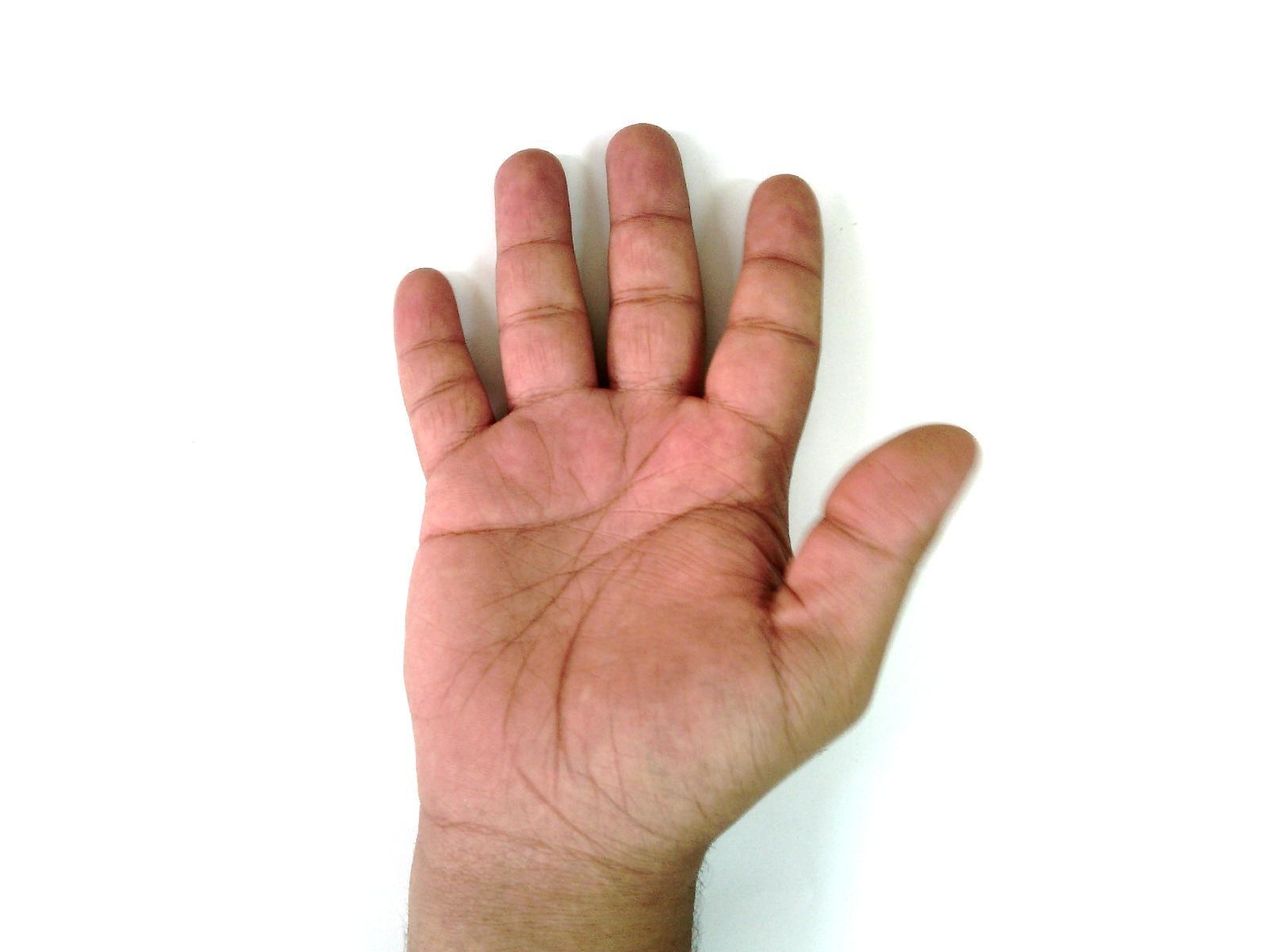open_palm: (388, 121, 985, 866)
